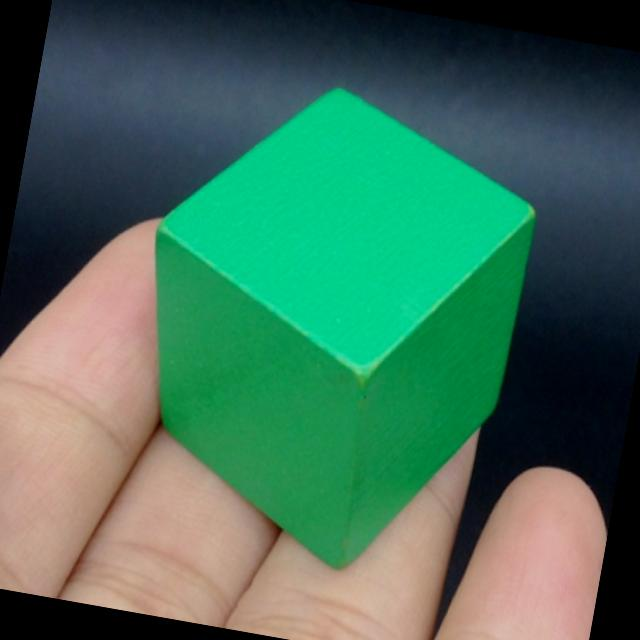green cube: (151, 83, 537, 573)
